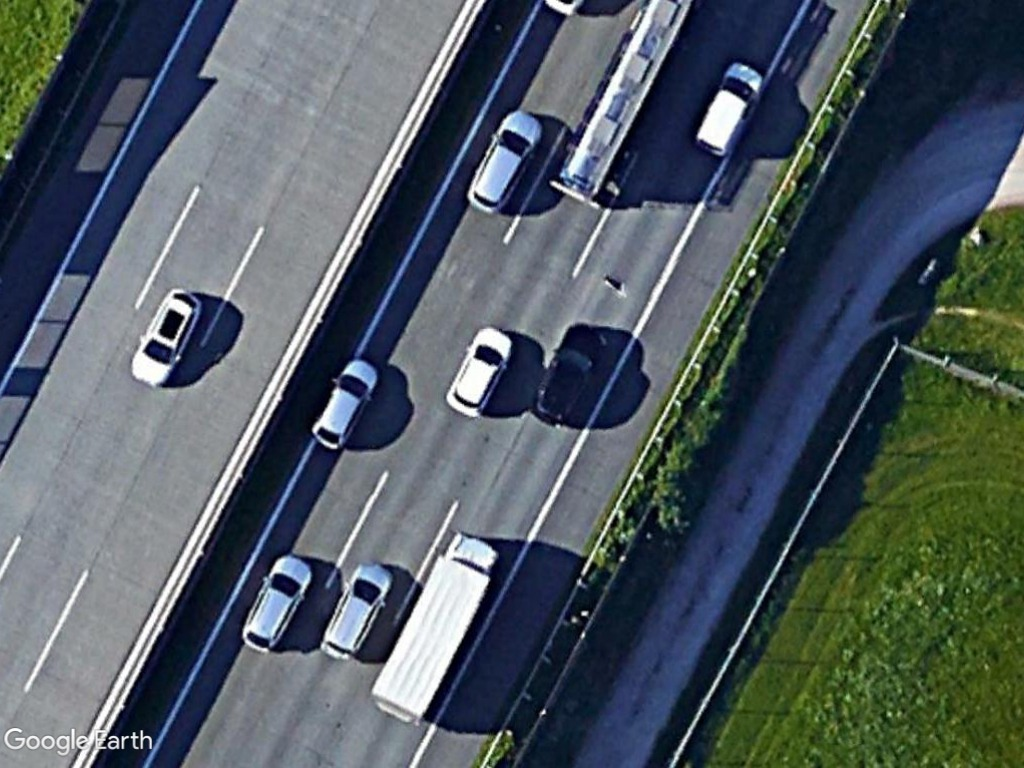car: (523, 316, 612, 432), (463, 102, 547, 221), (122, 280, 211, 391), (236, 548, 318, 657), (318, 554, 397, 665), (689, 54, 774, 157), (306, 354, 385, 452), (441, 319, 518, 419)
truck: (366, 525, 506, 730)
